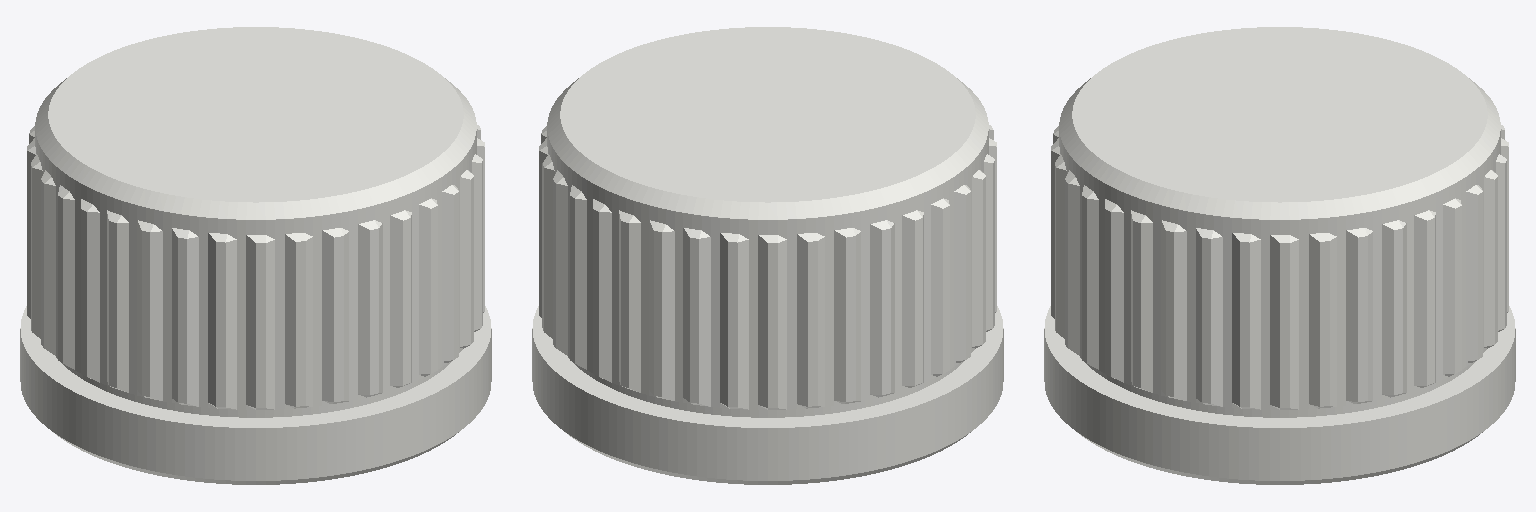
robot.urdf — reference_cap:
<?xml version="1.0" encoding="utf-8"?>
<!-- Generated by scripts/generate_iris_pipette_scene.py; do not edit by hand. -->
<!-- The amber bottle's PP25 cap: one free rigid body, origin at its underside on the axis,
     +Z up. -->
<robot name="reference_cap">
  <link name="reference_cap">
    <inertial>
      <origin xyz="9.50955e-21 -1.643e-18 0.0110165" rpy="1.5708 -1.5708 0"/>
      <mass value="0.00246002"/>
      <inertia ixx="3.63146e-07" ixy="0" ixz="0" iyy="2.77191e-07" iyz="0" izz="2.77191e-07"/>
    </inertial>
    <visual>
      <geometry><mesh filename="meshes/amber_cap.stl"/></geometry>
      <material name="cap"><color rgba="0.93 0.93 0.91 1"/></material>
    </visual>
    <collision>
      <origin xyz="0 0 0.00925" rpy="0 0 0"/>
      <geometry><cylinder radius="0.0144" length="0.0185"/></geometry>
    </collision>
  </link>
</robot>

--- What the picture shows (computed from the rendered views, not written in the file) ---
Views: 3 orthographic renders of the robot side by side, from view 1: azimuth 30°, elevation 25°; view 2: azimuth 150°, elevation 25°; view 3: azimuth 270°, elevation 25°.
Robot: reference_cap — 1 links, 0 joints (none); root link reference_cap; default pose: every joint at zero.
Visible links, largest first — view 1: reference_cap; view 2: reference_cap; view 3: reference_cap.
Boxes of the visible links, x1,y1,x2,y2 form: reference_cap: [20, 27, 491, 484]; reference_cap: [532, 27, 1003, 484]; reference_cap: [1044, 27, 1515, 484].
Size in the robot's own frame: 0.0288 by 0.0288 by 0.0185 metres.
Meshes: 1 distinct files referenced, 1 mesh visuals loaded (1 binary STL).
